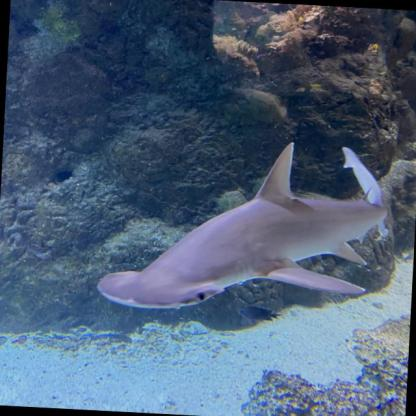shark: (95, 132, 392, 330)
